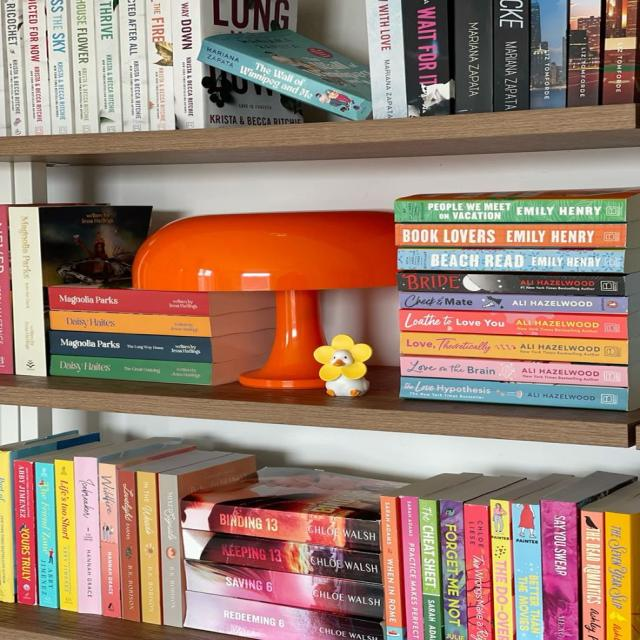book: (195, 41, 369, 120), (186, 560, 382, 617), (183, 530, 380, 583), (182, 501, 381, 551), (185, 591, 382, 639), (399, 376, 630, 410), (400, 331, 627, 363), (401, 356, 628, 388), (395, 193, 628, 223), (399, 309, 627, 339), (7, 207, 47, 375), (402, 0, 450, 115), (396, 224, 625, 248), (540, 496, 578, 639), (50, 330, 211, 363), (365, 0, 408, 119), (399, 292, 628, 314), (397, 249, 623, 271), (398, 273, 623, 295), (51, 287, 209, 316), (50, 356, 212, 384), (605, 512, 639, 639), (74, 456, 101, 614), (530, 0, 569, 109), (463, 503, 494, 639), (512, 503, 543, 639), (493, 0, 530, 111), (455, 0, 491, 114), (50, 311, 213, 336), (119, 0, 150, 131), (438, 500, 467, 639), (172, 0, 202, 130), (69, 0, 98, 133), (602, 0, 639, 103), (45, 0, 73, 134), (146, 0, 175, 129), (489, 498, 515, 639), (23, 0, 50, 134), (567, 0, 601, 106), (94, 0, 121, 132), (418, 498, 442, 639), (3, 0, 28, 135), (35, 462, 58, 608), (380, 496, 403, 639), (400, 497, 423, 639), (99, 464, 120, 617), (581, 511, 606, 639), (55, 459, 76, 611), (162, 474, 183, 626), (139, 472, 160, 622), (14, 461, 36, 604), (119, 471, 140, 620), (0, 450, 15, 602)
figurine: (314, 334, 372, 397)
